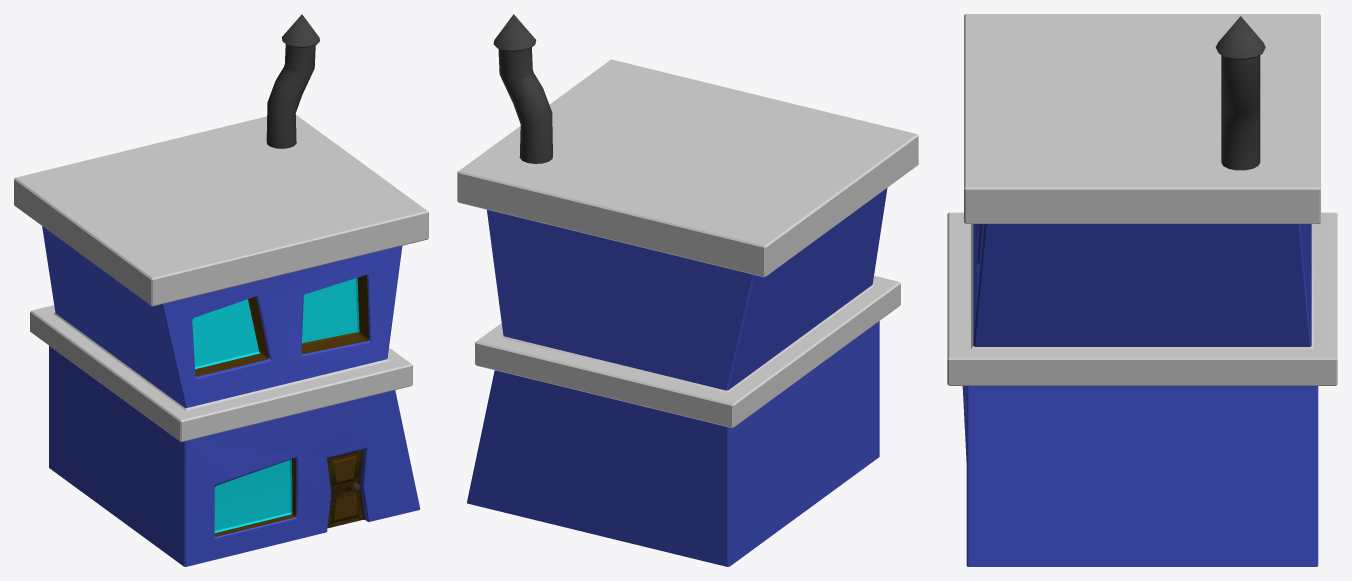
Rendered from PredioPequeno-AzulEscuroLOD0.fbx.
3 renders of one model, left to right at view 1: azimuth 30°, elevation 25°; view 2: azimuth 150°, elevation 25°; view 3: azimuth 270°, elevation 25°, orthographic. The views are drawn at different scales.
Parts seen in each view (by area): view 1: Predio2Andares; view 2: Predio2Andares; view 3: Predio2Andares.
Part boxes in pixels (x1,y1,x2,y2): Predio2Andares: (14, 14, 428, 566); Predio2Andares: (457, 14, 918, 566); Predio2Andares: (947, 14, 1337, 566).
Bounding box in the file's own units: 715 × 1035 × 675.
